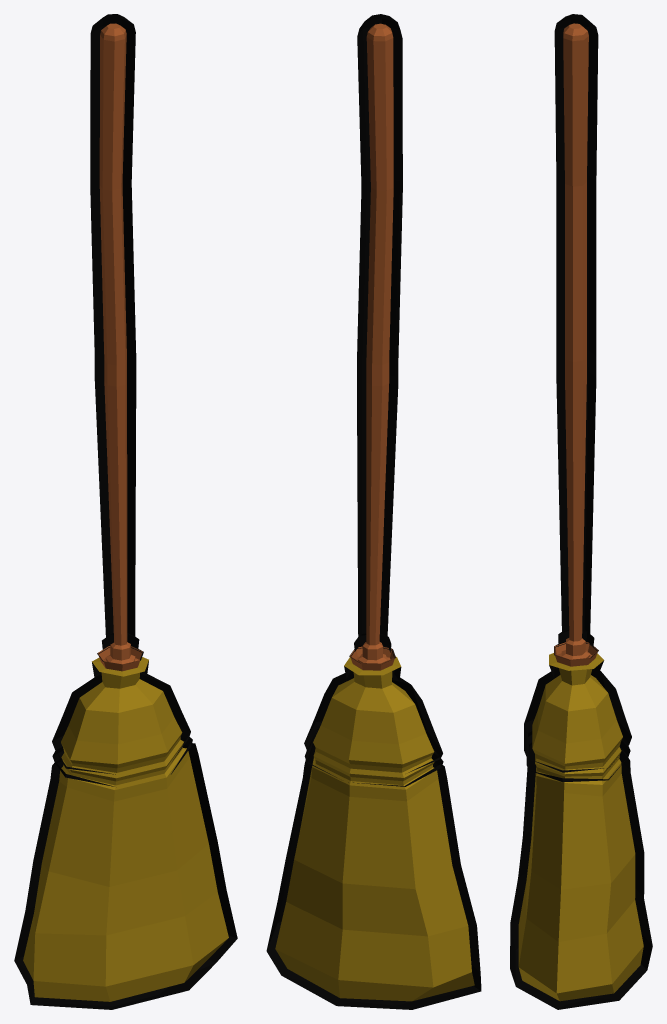
Rendered from Escoba.fbx.
The picture shows the model from 3 angles, left to right: view 1: azimuth 30°, elevation 25°; view 2: azimuth 150°, elevation 25°; view 3: azimuth 270°, elevation 25°; orthographic projection.
Parts seen in each view (by area): view 1: broom_01, broom_01.001; view 2: broom_01, broom_01.001; view 3: broom_01, broom_01.001.
Boxes of the visible parts, bbox=[...] form: broom_01: bbox=[14, 657, 237, 1009]; broom_01.001: bbox=[90, 14, 143, 671]; broom_01: bbox=[266, 657, 481, 1009]; broom_01.001: bbox=[349, 14, 402, 670]; broom_01: bbox=[510, 653, 652, 1009]; broom_01.001: bbox=[554, 14, 598, 666].
Bounding box in the file's own units: 0.5476 × 2.46 × 0.3321.
